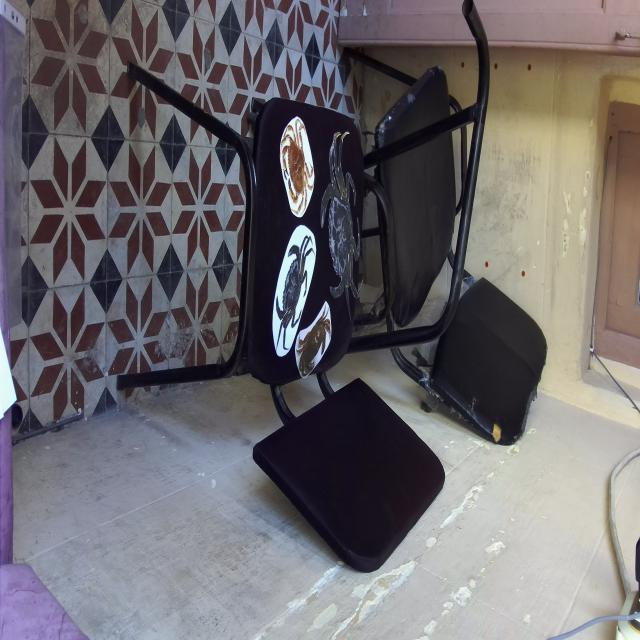European_Green_Crab: (312, 129, 369, 328), (265, 224, 320, 362)
